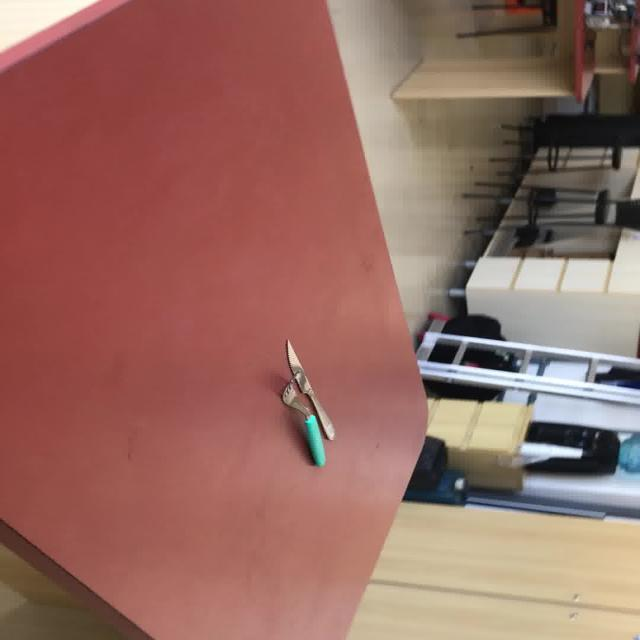knife fork: (281, 338, 335, 441), (279, 378, 325, 466)
